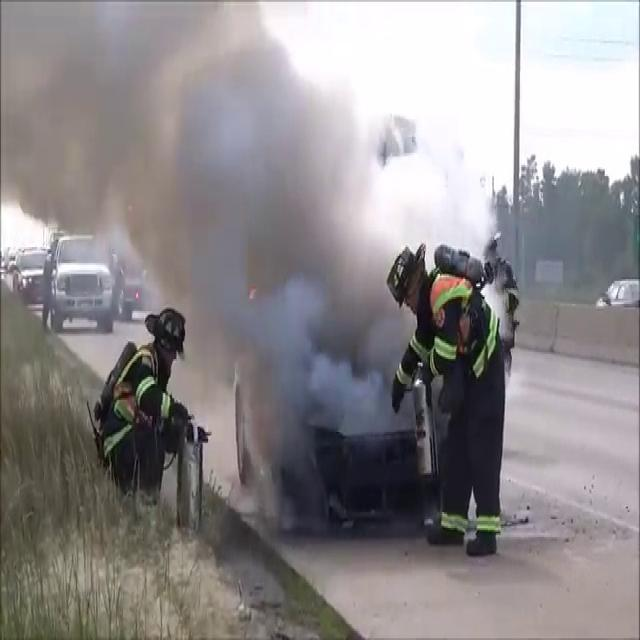Smoke: (2, 1, 488, 497)
